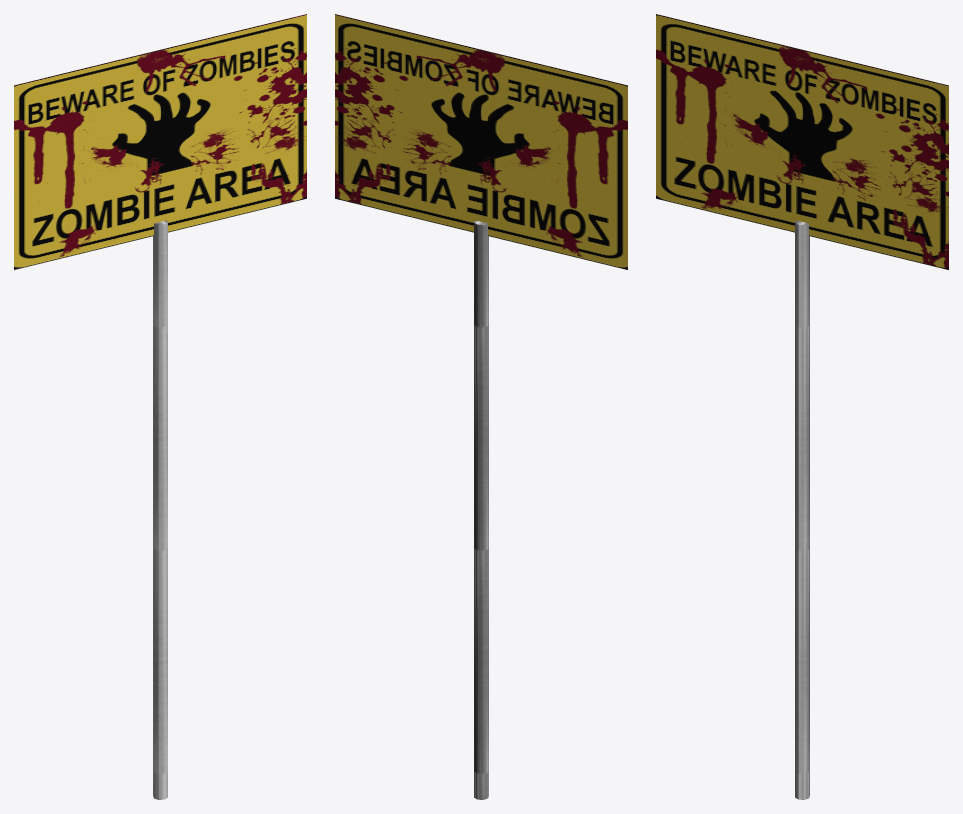
The model's file is zombies.gltf.
3 renders of one model, left to right at view 1: azimuth 30°, elevation 25°; view 2: azimuth 150°, elevation 25°; view 3: azimuth 330°, elevation 25°, orthographic.
Parts seen in each view (by area): view 1: pCylinder3; view 2: pCylinder3; view 3: pCylinder3.
Part boxes in pixels (<box>): pCylinder3: <box>14,14,306,799</box>; pCylinder3: <box>335,14,627,799</box>; pCylinder3: <box>656,14,948,799</box>.
Size of the model in its own units: 0.1368 by 0.3333 by 0.00615.
2 materials, 2 textured.
